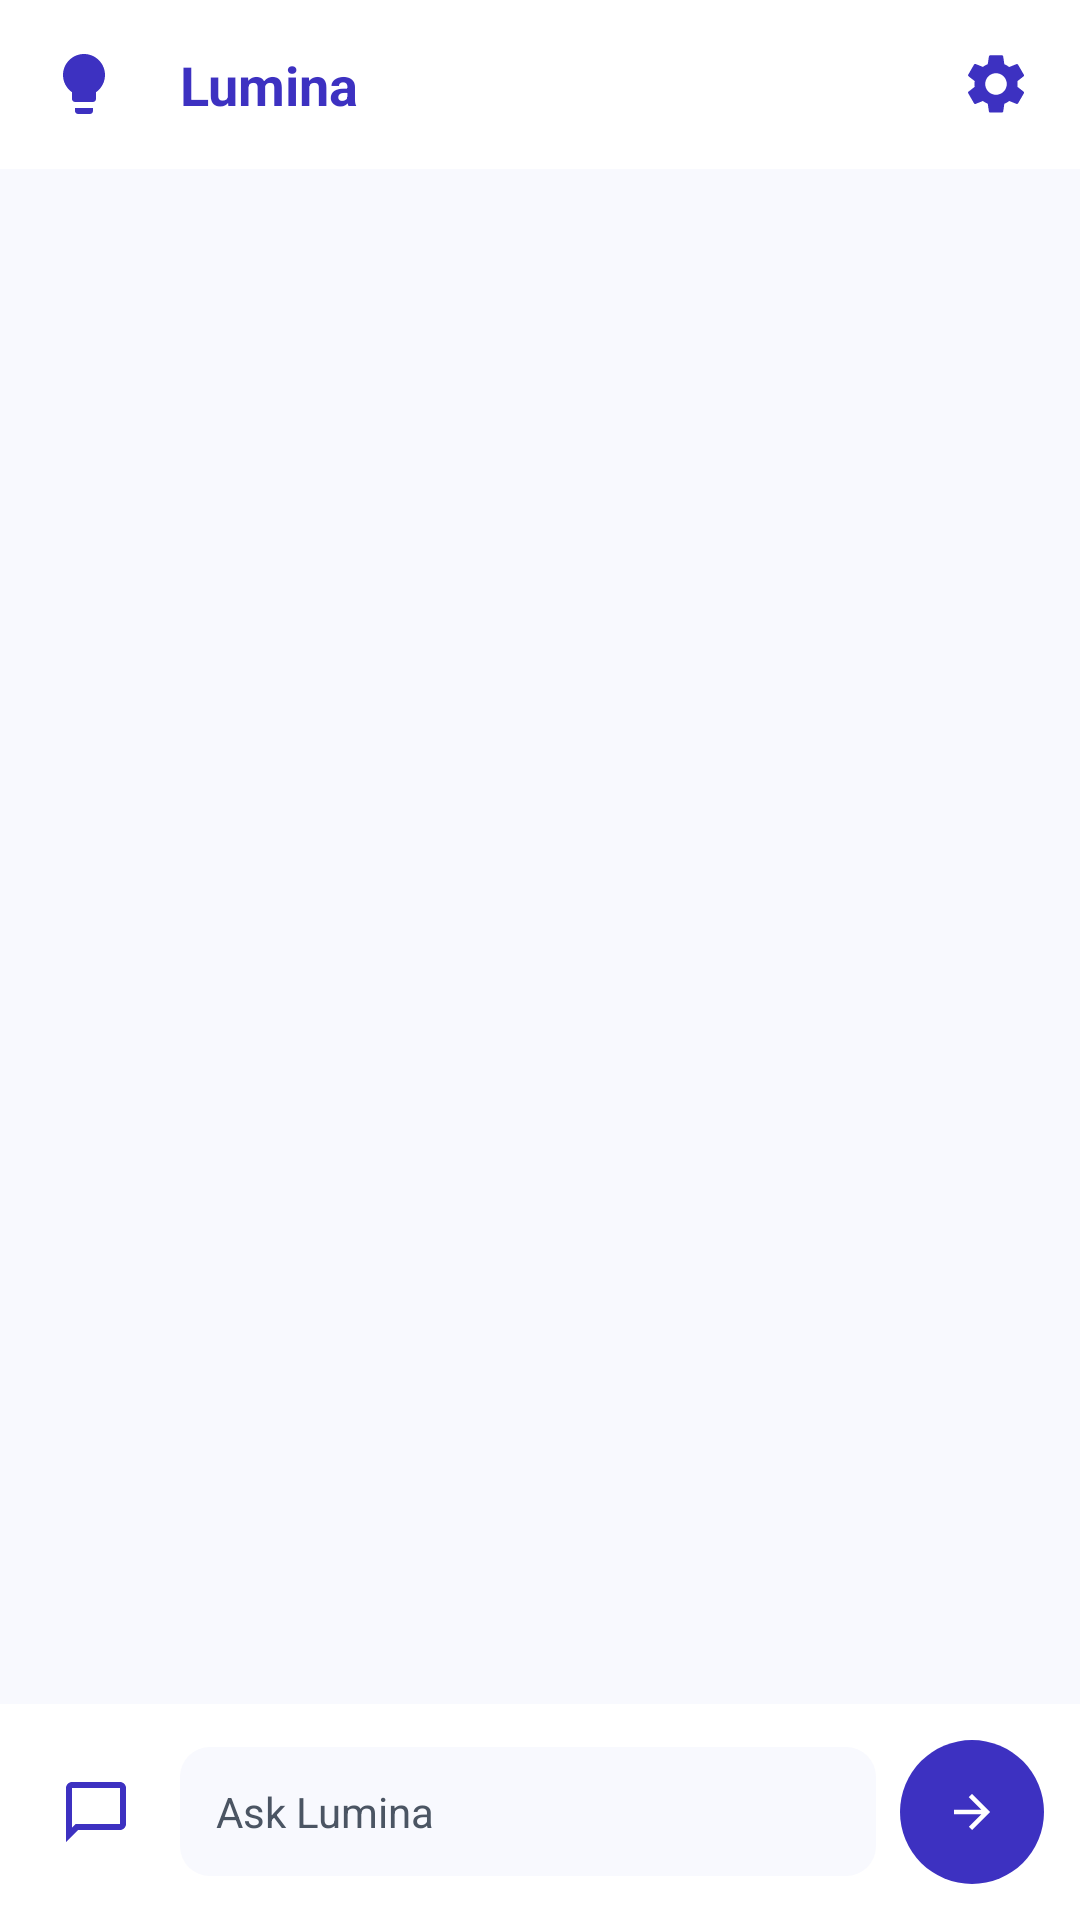

Where icons sit on this 1080x1920 app screen, as (x1, y1, x2, y2):
arrow forward: (900, 1740, 1044, 1884)
Settings: (968, 55, 1024, 113)
